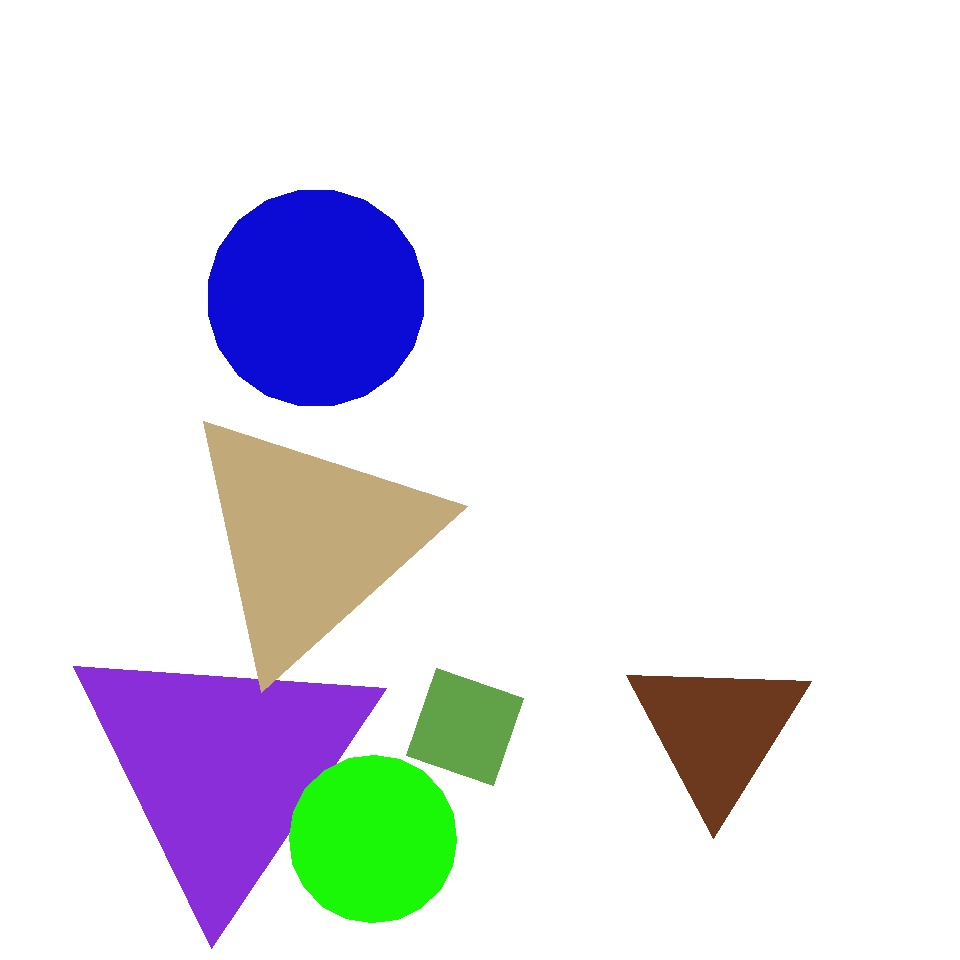circle: (68, 627, 380, 909), (179, 404, 443, 676), (624, 650, 809, 814)
square: (334, 624, 578, 869), (406, 668, 524, 786), (284, 250, 398, 363)
triangle: (208, 190, 424, 406), (290, 755, 456, 922)
